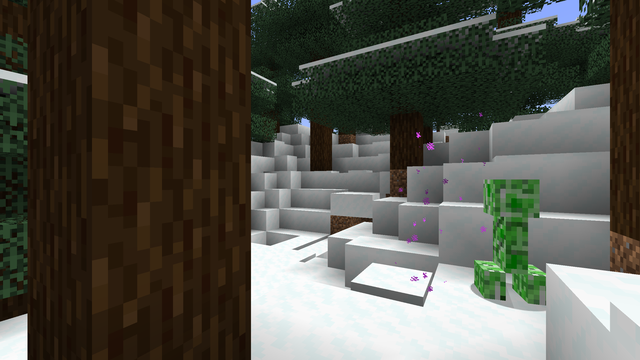creepers: (483, 173, 541, 307)
